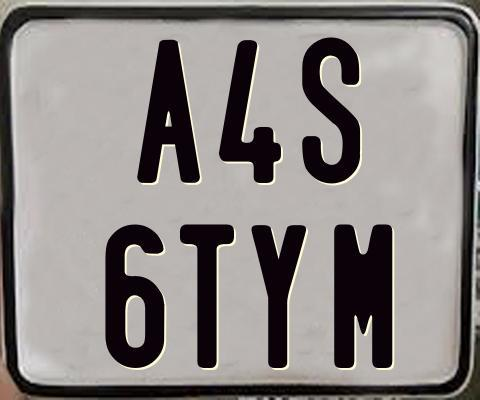4: (219, 38, 287, 187)
6: (102, 224, 162, 370)
A: (137, 40, 201, 183)
M: (331, 224, 394, 368)
S: (299, 36, 363, 184)
T: (180, 224, 234, 371)
Y: (248, 223, 305, 366)
